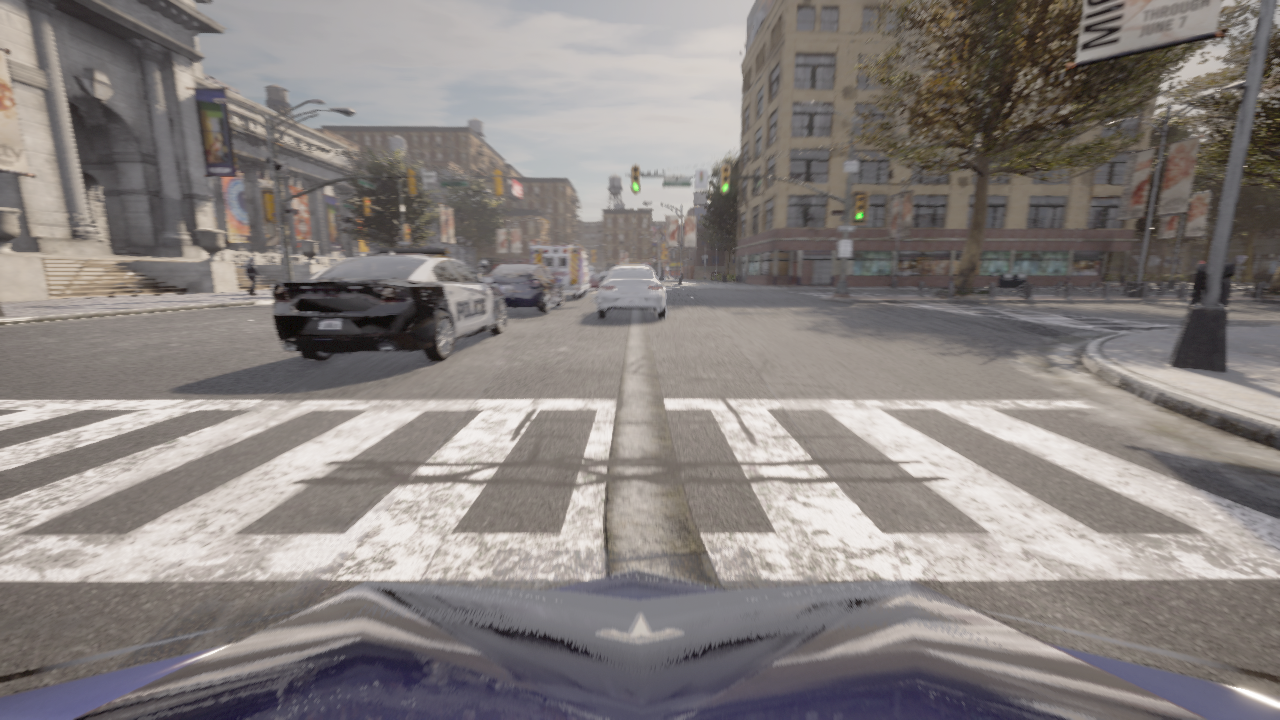cyclist: (0, 569, 1279, 719), (271, 247, 505, 361), (591, 265, 670, 318), (489, 265, 563, 313), (530, 246, 592, 298), (588, 271, 601, 290), (601, 271, 608, 277), (597, 273, 601, 275)
pedestrian: (245, 258, 260, 294)
